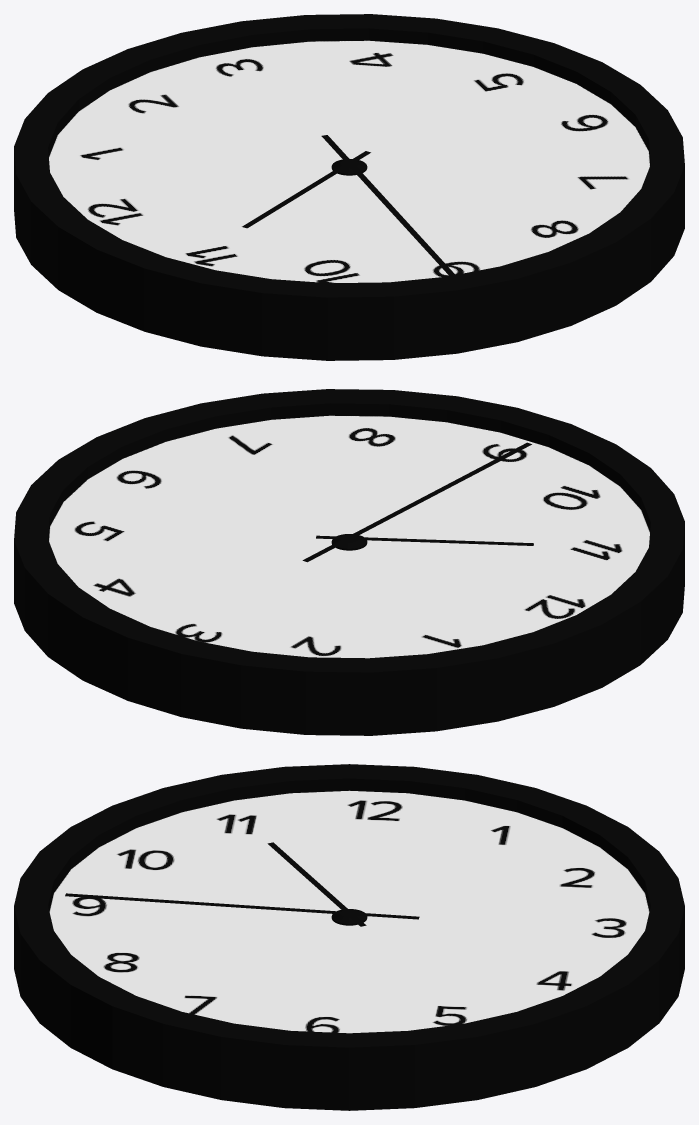
The model's file is wallClock.fbx.
3 renders of one model, top to bottom at view 1: azimuth 30°, elevation 25°; view 2: azimuth 150°, elevation 25°; view 3: azimuth 270°, elevation 25°, orthographic.
Parts seen in each view (by area): view 1: CLOCK BASE, Plane; view 2: CLOCK BASE, Plane; view 3: CLOCK BASE, Plane.
Boxes of the visible parts, x1,y1,x2,y2 form: CLOCK BASE: [14, 14, 684, 360]; Plane: [242, 135, 455, 275]; CLOCK BASE: [14, 389, 684, 735]; Plane: [302, 442, 533, 562]; CLOCK BASE: [14, 764, 684, 1110]; Plane: [65, 842, 419, 926].
Size of the model in its own units: 200 by 20.77 by 200.
Materials: 3 (1 with a texture image).
